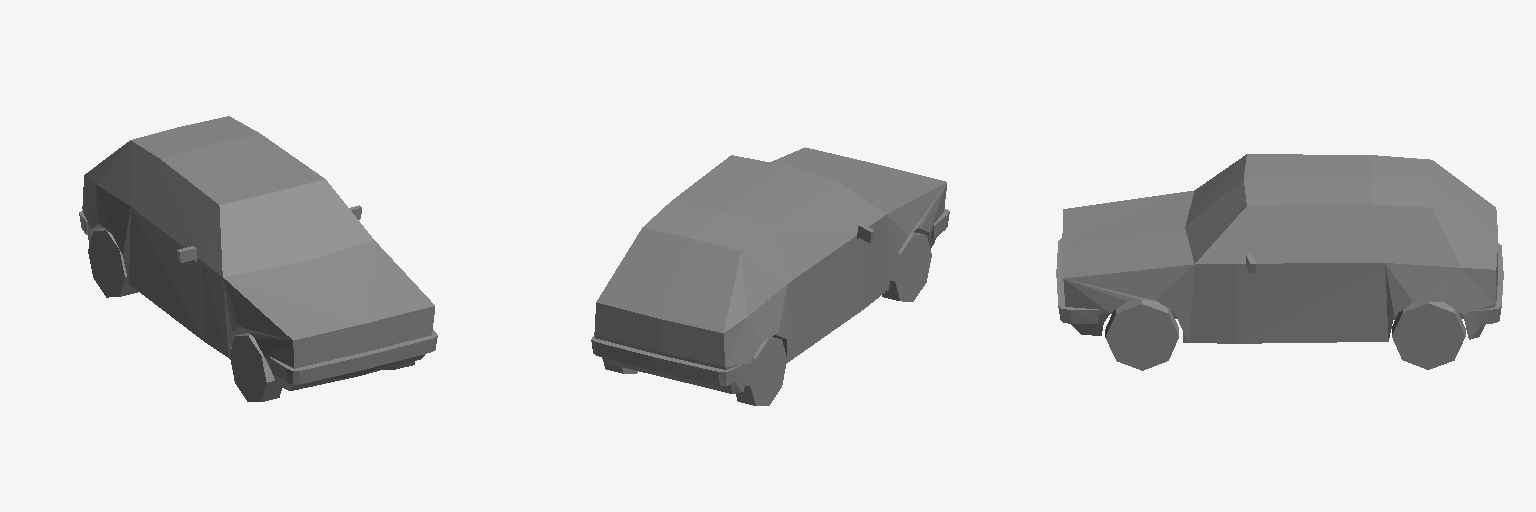
Rendered from Car3.obj.
3 views of the same model, side by side, from view 1: azimuth 30°, elevation 25°; view 2: azimuth 150°, elevation 25°; view 3: azimuth 270°, elevation 25° (orthographic).
Visible parts, largest first — view 1: Car3; view 2: Car3; view 3: Car3.
Part boxes in pixels (x1,y1,x2,y2): Car3: (79,116,437,401); Car3: (591,147,949,405); Car3: (1056,154,1503,370).
Bounding box in the file's own units: 2.65 × 2.14 × 5.61.